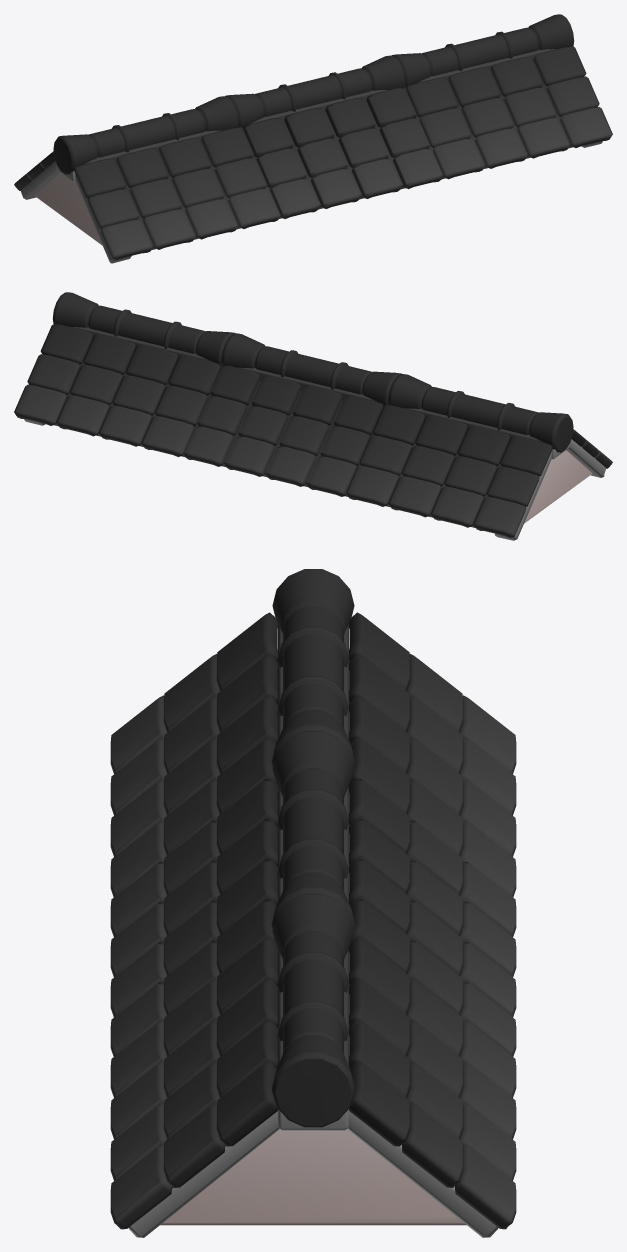
File: SM_Wood_Roof_05.fbx
3 views of the same model, one above another, from view 1: azimuth 30°, elevation 25°; view 2: azimuth 150°, elevation 25°; view 3: azimuth 270°, elevation 25° (orthographic). The views are drawn at different scales.
Visible parts, largest first — view 1: SM_Wood_Roof_05; view 2: SM_Wood_Roof_05; view 3: SM_Wood_Roof_05.
Part boxes in pixels (bbox=[...]): SM_Wood_Roof_05: bbox=[14, 14, 612, 263]; SM_Wood_Roof_05: bbox=[14, 292, 612, 540]; SM_Wood_Roof_05: bbox=[110, 569, 516, 1237].
Bounding box in the file's own units: 3.02 × 0.5505 × 1.06.
